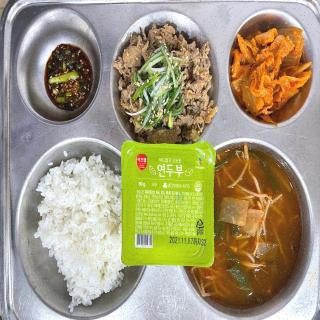Nasi: (36, 155, 123, 313)
